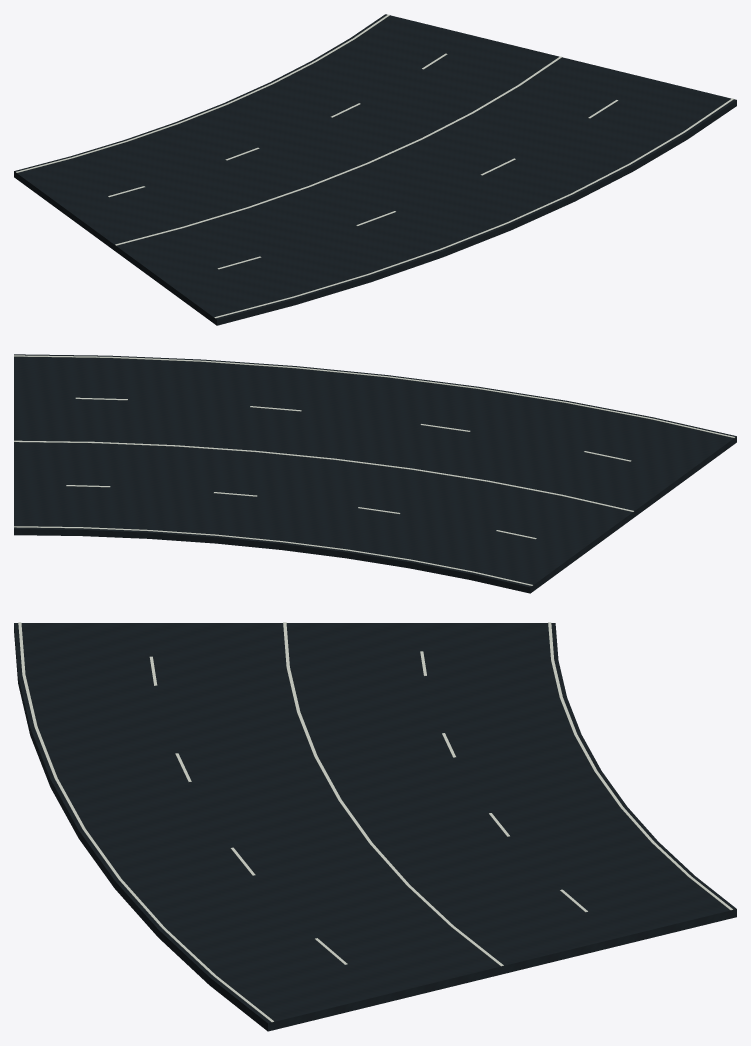
Rendered from Transit_Road_4L_Curve30_R36.glb.
3 renders of one model, top to bottom at view 1: azimuth 30°, elevation 25°; view 2: azimuth 150°, elevation 25°; view 3: azimuth 270°, elevation 25°, orthographic. The views are drawn at different scales.
Parts seen in each view (by area): view 1: Transit_Road_4L_Curve30_R36_Surface, Transit_Road_4L_Curve30_R36_MarkEdge-1, Transit_Road_4L_Curve30_R36_MarkLane2, Transit_Road_4L_Curve30_R36_MarkEdge+1; view 2: Transit_Road_4L_Curve30_R36_Surface, Transit_Road_4L_Curve30_R36_MarkEdge-1, Transit_Road_4L_Curve30_R36_MarkLane2, Transit_Road_4L_Curve30_R36_MarkEdge+1; view 3: Transit_Road_4L_Curve30_R36_Surface, Transit_Road_4L_Curve30_R36_MarkEdge-1, Transit_Road_4L_Curve30_R36_MarkLane2, Transit_Road_4L_Curve30_R36_MarkEdge+1.
Boxes of the visible parts, x1,y1,x2,y2 form: Transit_Road_4L_Curve30_R36_Surface: (14,14,736,325); Transit_Road_4L_Curve30_R36_MarkEdge-1: (214,98,733,318); Transit_Road_4L_Curve30_R36_MarkLane2: (115,56,561,245); Transit_Road_4L_Curve30_R36_MarkEdge+1: (16,14,389,172); Transit_Road_4L_Curve30_R36_Surface: (14,354,736,593); Transit_Road_4L_Curve30_R36_MarkEdge-1: (14,355,734,437); Transit_Road_4L_Curve30_R36_MarkLane2: (14,440,633,511); Transit_Road_4L_Curve30_R36_MarkEdge+1: (14,526,532,585); Transit_Road_4L_Curve30_R36_Surface: (14,623,736,1031); Transit_Road_4L_Curve30_R36_MarkEdge-1: (18,622,273,1022); Transit_Road_4L_Curve30_R36_MarkLane2: (283,622,503,966); Transit_Road_4L_Curve30_R36_MarkEdge+1: (548,622,732,910).
Size of the model in its own units: 21 by 0.212 by 16.02.
2 materials, 1 textured.
